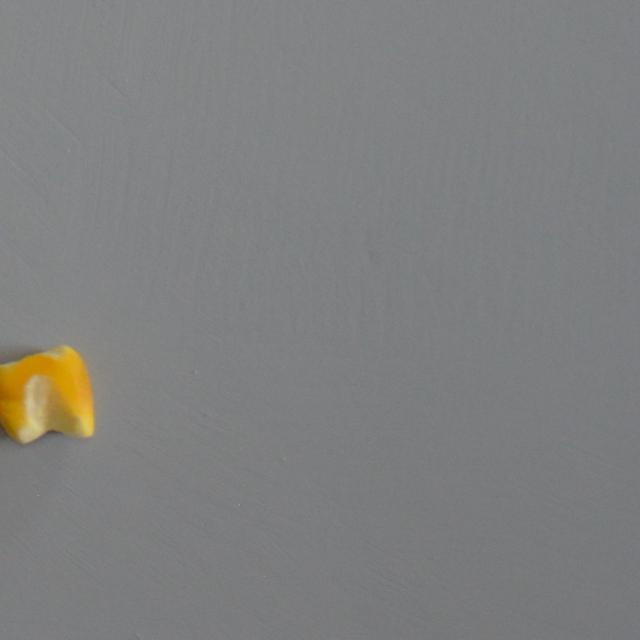no_canjicado: (0, 345, 95, 446)
